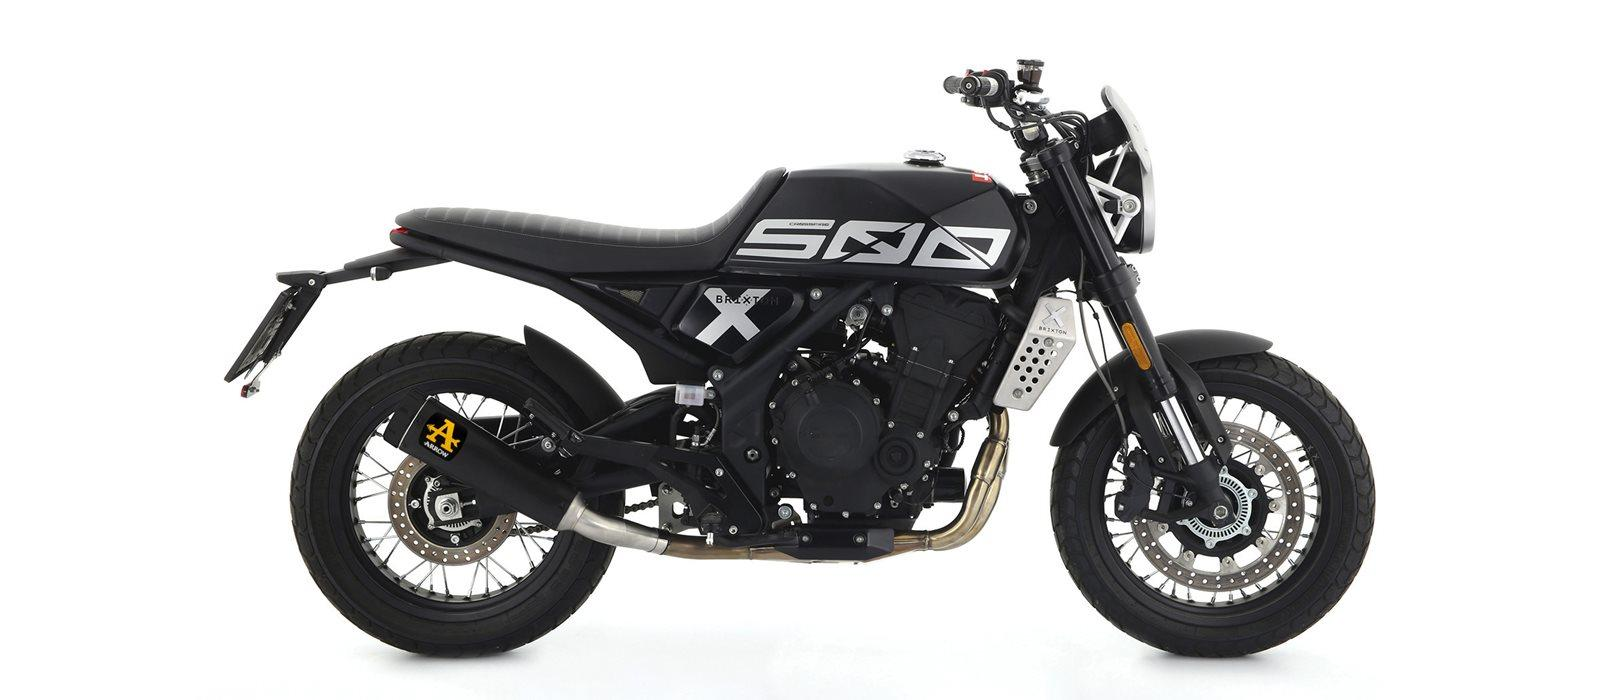engine-chasis: (646, 276, 1000, 547)
exhaust: (383, 388, 1011, 565)
frontside: (946, 85, 1273, 528)
handlebar: (942, 58, 1130, 176)
motorbike: (224, 57, 1377, 656)
rearside: (223, 227, 853, 499), (428, 486, 481, 527)
seat: (394, 165, 787, 272)
tank: (716, 148, 1041, 289)
wheel: (289, 331, 617, 657), (1048, 350, 1377, 658), (1076, 240, 1129, 458), (581, 393, 676, 434), (624, 497, 658, 514)
